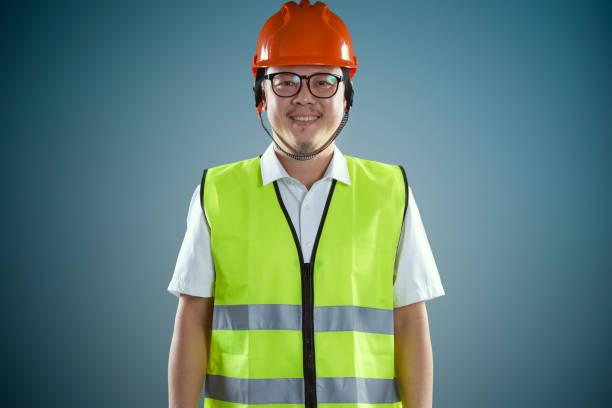goggle: (261, 68, 354, 104)
helmet: (246, 1, 365, 73)
vest: (197, 147, 424, 408)
